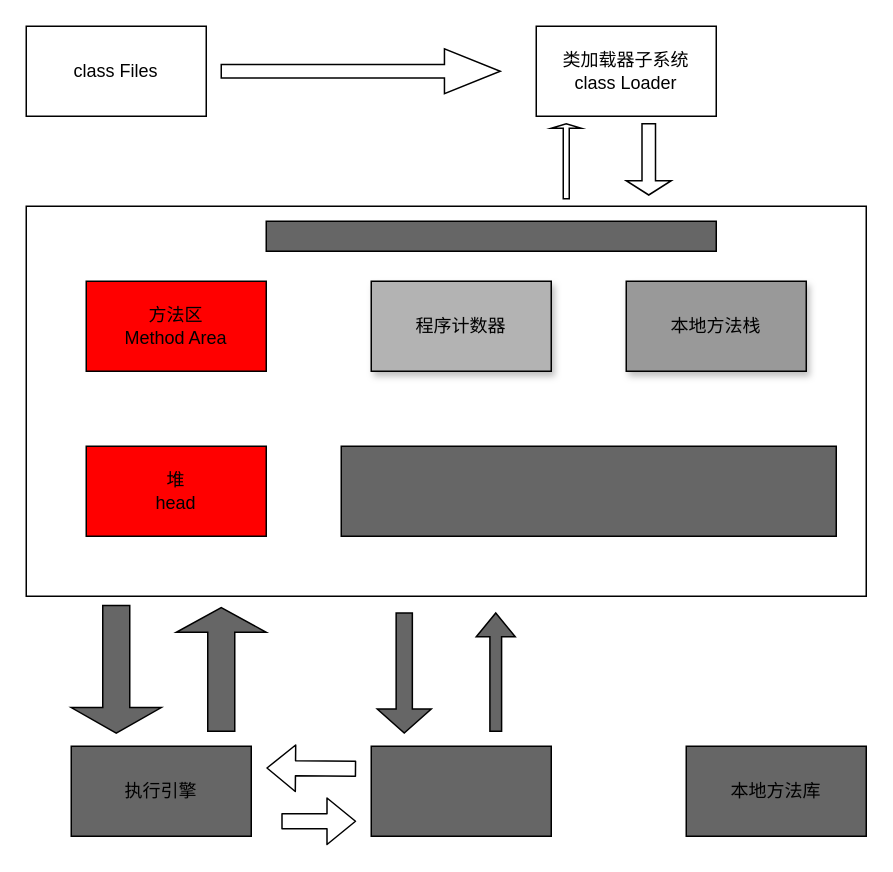
Image size: 893x872. Some labels were removed from this diagram. The centre of each missing label's shape, as x and y in pixels:
"本地方法接口" belongs at point (460, 790).
"虚拟机栈" belongs at point (588, 490).
"运行时数据区(Runtime Data Area)" belongs at point (490, 235).
